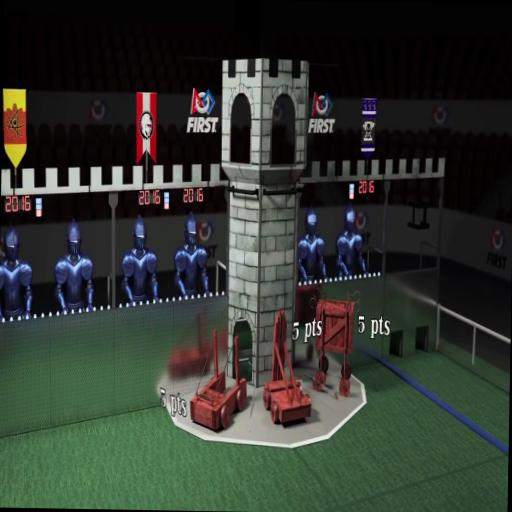robot: (189, 326, 252, 434), (263, 307, 314, 428), (309, 288, 355, 400)
